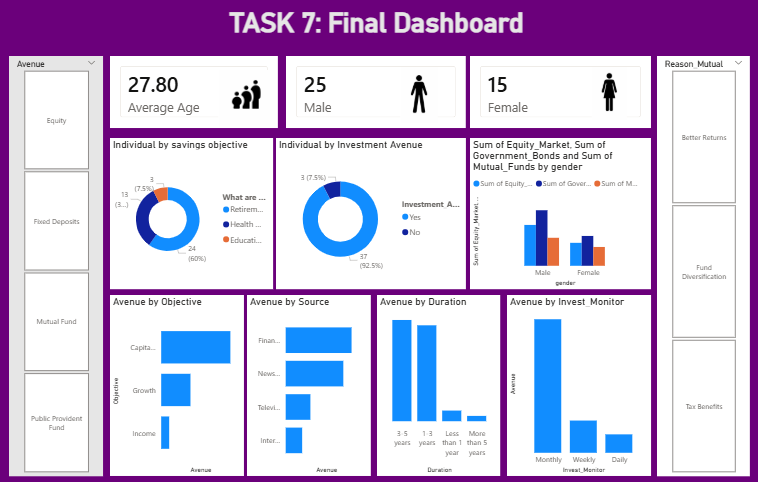

Layout of this report page (visuals, bound fields, positions):
{"tool":"powerbi","page":{"name":"Task 7","canvas":[1280,825],"ordinal":6},"visuals":[{"type":"textbox","title":"TASK 7: Final Dashboard","box":[25.2,20.2,1221.2,62],"z":0},{"type":"donutChart","title":"Individual by savings objective","fields":{"Category":["Data_set 2.What are your savings objectives?"],"Y":["CountNonNull(Data_set 2.gender)"]},"box":[188.1,241.9,273.8,253.6],"z":1000},{"type":"donutChart","title":"Individual by Investment Avenue","fields":{"Y":["CountNonNull(Data_set 2.gender)"],"Category":["Data_set 2.Investment_Avenues"]},"box":[467,241.9,319.2,253.6],"z":2000},{"type":"cardVisual","fields":{"Data":["Data_set 2.Average Age"]},"box":[188.1,104.1,282.2,120.9],"z":3000},{"type":"clusteredColumnChart","fields":{"Category":["Data_set 2.gender"],"Y":["Sum(Data_set 2.Equity_Market)","Sum(Data_set 2.Government_Bonds)","Sum(Data_set 2.Mutual_Funds)"]},"box":[792.9,241.9,304,253.6],"z":4000},{"type":"cardVisual","fields":{"Data":["Data_set 2.Male"]},"box":[483.8,104.1,302.4,120.9],"z":5000},{"type":"cardVisual","fields":{"Data":["Data_set 2.Female"]},"box":[792.9,104.1,304,120.9],"z":6000},{"type":"clusteredBarChart","fields":{"Category":["Data_set 2.Objective"],"Y":["CountNonNull(Data_set 2.Avenue)"]},"box":[188.1,505.6,225.1,304],"z":7000},{"type":"slicer","fields":{"Values":["Data_set 2.Avenue"]},"box":[18.5,104.1,157.9,705.5],"z":8000},{"type":"clusteredColumnChart","fields":{"Category":["Data_set 2.Duration"],"Y":["CountNonNull(Data_set 2.Avenue)"]},"box":[636.6,505.6,206.6,304],"z":9000},{"type":"clusteredColumnChart","fields":{"Y":["CountNonNull(Data_set 2.Avenue)"],"Category":["Data_set 2.Invest_Monitor"]},"box":[855,505.6,241.9,304],"z":10000},{"type":"slicer","fields":{"Values":["Data_set 2.Reason_Mutual"]},"box":[1107,104.1,156.2,705.5],"z":11000},{"type":"clusteredBarChart","fields":{"Category":["Data_set 2.Source"],"Y":["CountNonNull(Data_set 2.Avenue)"]},"box":[418.3,505.6,208.3,304],"z":12000},{"type":"image","box":[346,127.7,144.5,97.4],"z":13000},{"type":"image","box":[656.8,122.6,100.8,94.1],"z":14000},{"type":"image","box":[947.4,122.6,159.6,89],"z":15000}]}

Visuals, with their boxes in screenshot pixels (x1, y1, x2, y2), scaled from the page's 1280x825 canvas onto the 758x482 screenshot:
"TASK 7: Final Dashboard" textbox: (15, 12, 738, 48)
"Individual by savings objective" donutChart: (111, 141, 274, 289)
"Individual by Investment Avenue" donutChart: (277, 141, 466, 289)
cardVisual - Data_set 2.Average Age: (111, 61, 279, 131)
clusteredColumnChart - Data_set 2.gender x Sum(Data_set 2.Equity_Market): (470, 141, 650, 289)
cardVisual - Data_set 2.Male: (287, 61, 466, 131)
cardVisual - Data_set 2.Female: (470, 61, 650, 131)
clusteredBarChart - Data_set 2.Objective x CountNonNull(Data_set 2.Avenue): (111, 295, 245, 473)
slicer - Data_set 2.Avenue: (11, 61, 104, 473)
clusteredColumnChart - Data_set 2.Duration x CountNonNull(Data_set 2.Avenue): (377, 295, 499, 473)
clusteredColumnChart - CountNonNull(Data_set 2.Avenue) x Data_set 2.Invest_Monitor: (506, 295, 650, 473)
slicer - Data_set 2.Reason_Mutual: (656, 61, 748, 473)
clusteredBarChart - Data_set 2.Source x CountNonNull(Data_set 2.Avenue): (248, 295, 371, 473)
image: (205, 75, 290, 132)
image: (389, 72, 449, 127)
image: (561, 72, 656, 124)
